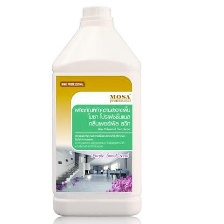cleaning_solution: (48, 3, 143, 219)
